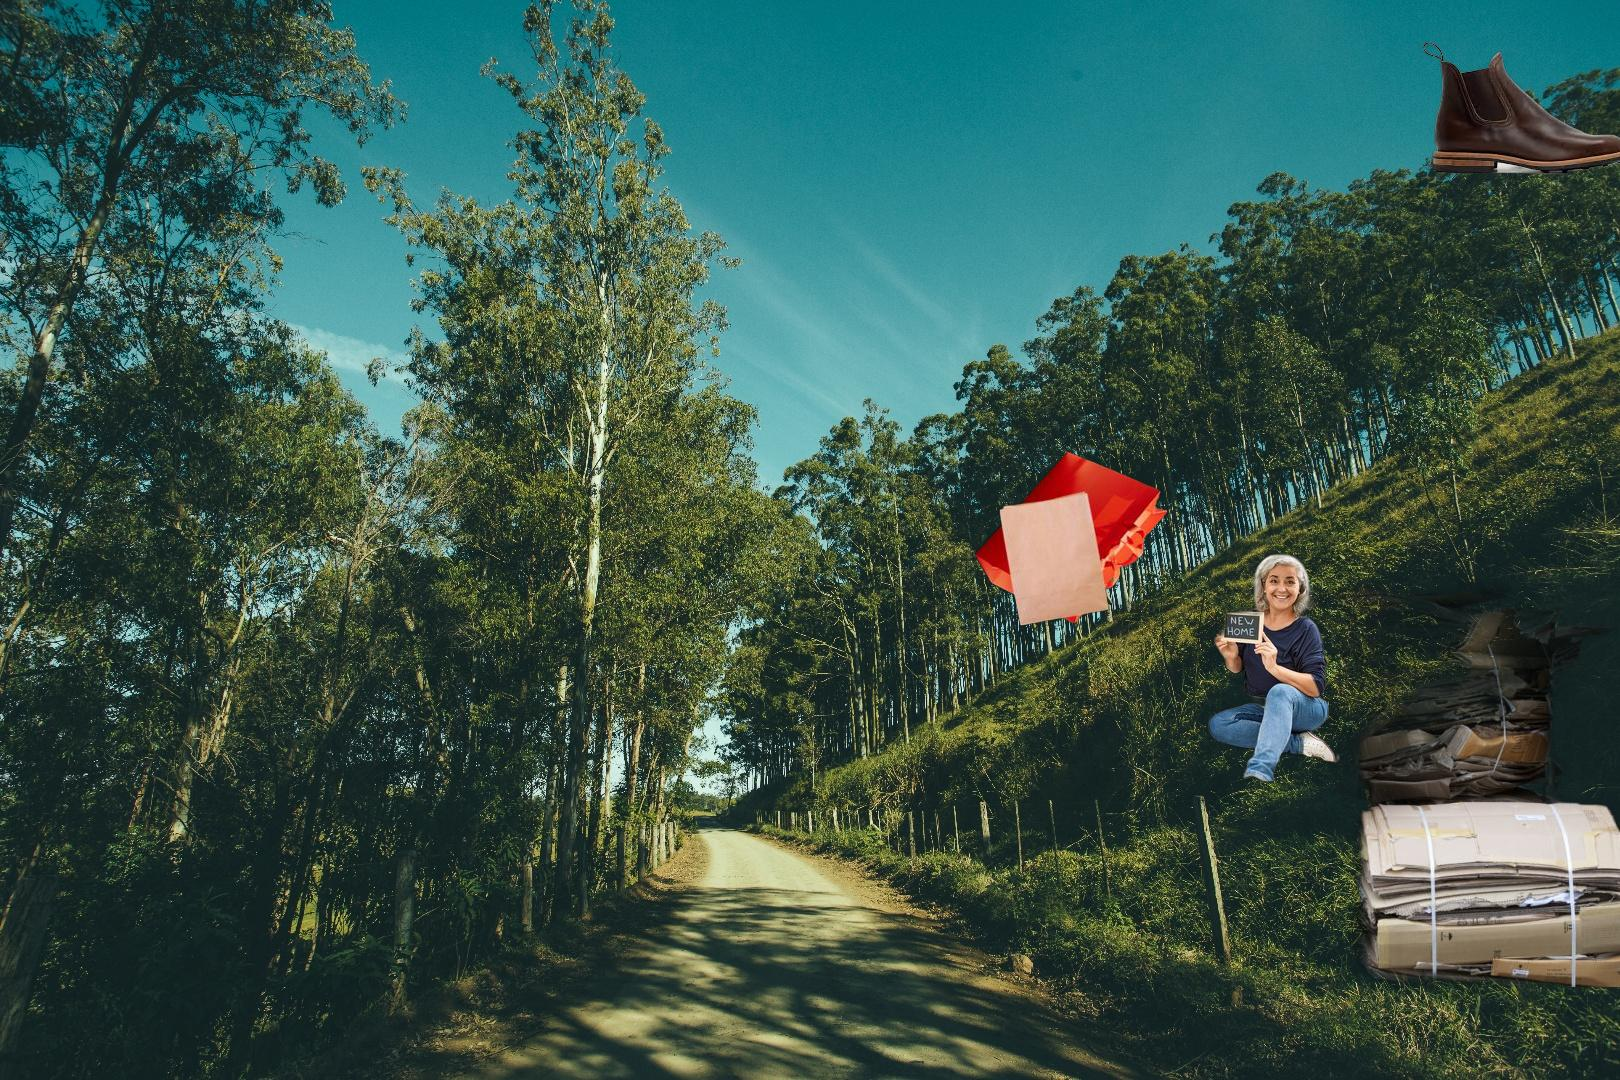paper-bag: (972, 450, 1170, 628)
shoes: (1420, 39, 1620, 177)
trashbox-cardboard: (849, 542, 1620, 987), (1097, 551, 1342, 783)
